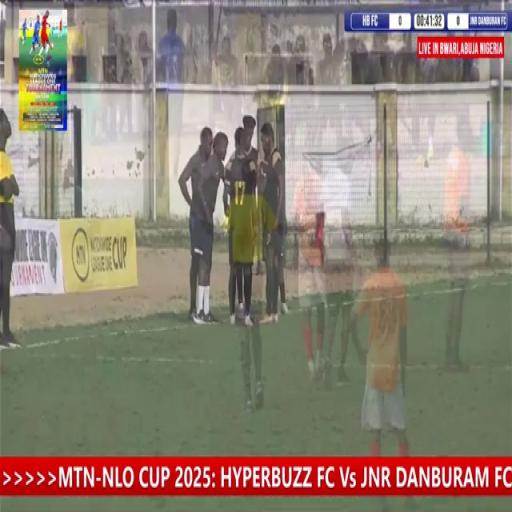referee: (0, 95, 24, 356)
team1: (344, 230, 424, 457)
team2: (187, 117, 226, 327)
